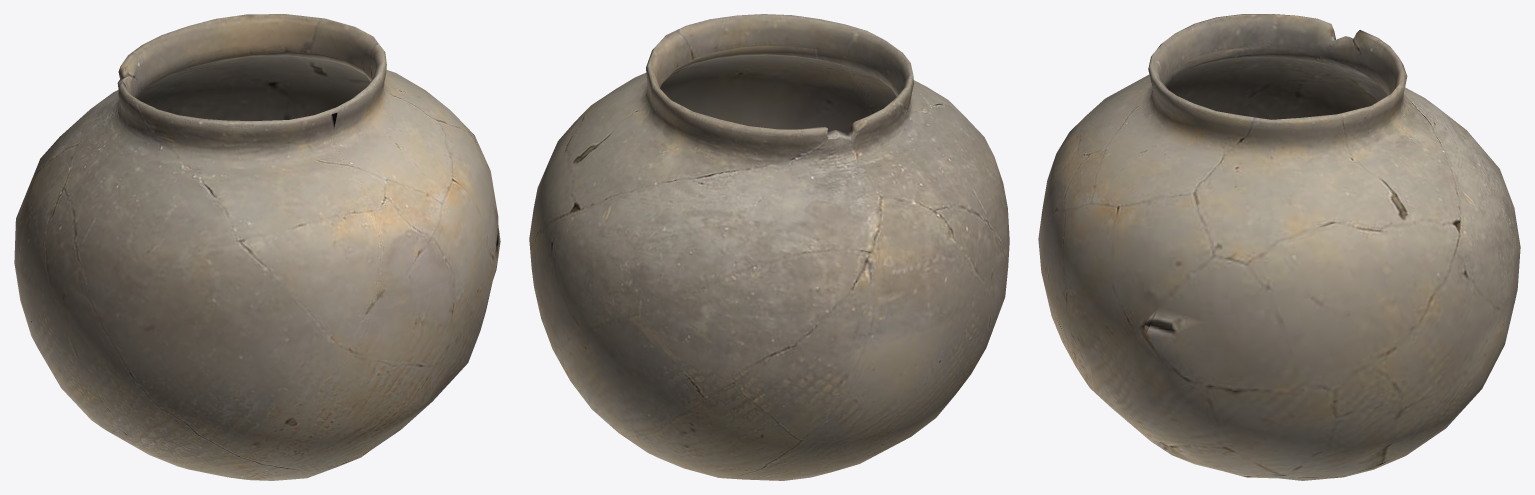
Rendered from antiquity4_41.fbx.
The picture shows the model from 3 angles, left to right: view 1: azimuth 30°, elevation 25°; view 2: azimuth 150°, elevation 25°; view 3: azimuth 270°, elevation 25°; orthographic projection.
Parts seen in each view (by area): view 1: Low; view 2: Low; view 3: Low.
Part boxes in pixels (x1=…): Low: x1=14, y1=14, x2=500, y2=480; Low: x1=529, y1=14, x2=1009, y2=480; Low: x1=1038, y1=14, x2=1520, y2=480.
Size of the model in its own units: 37.64 by 32.51 by 37.34.
1 material, 1 textured.
